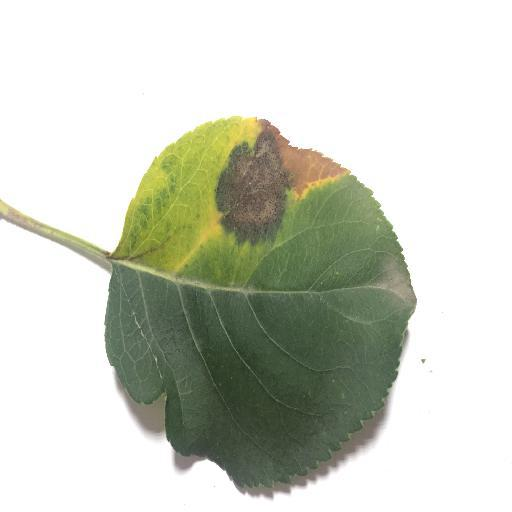Brown_Spot: (191, 133, 336, 244)
